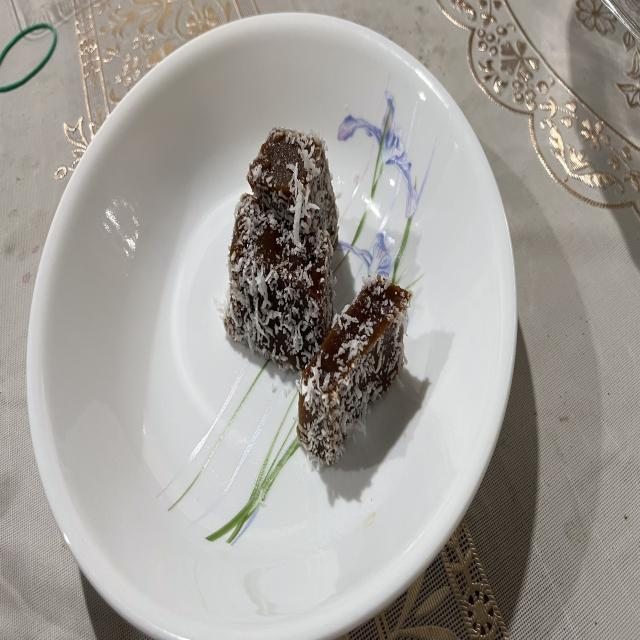kaswi: (298, 276, 411, 464), (222, 191, 335, 373), (253, 125, 338, 245)
